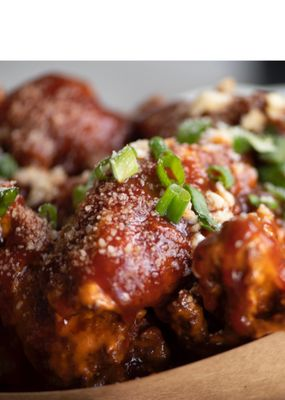sushi: (0, 80, 285, 397)
